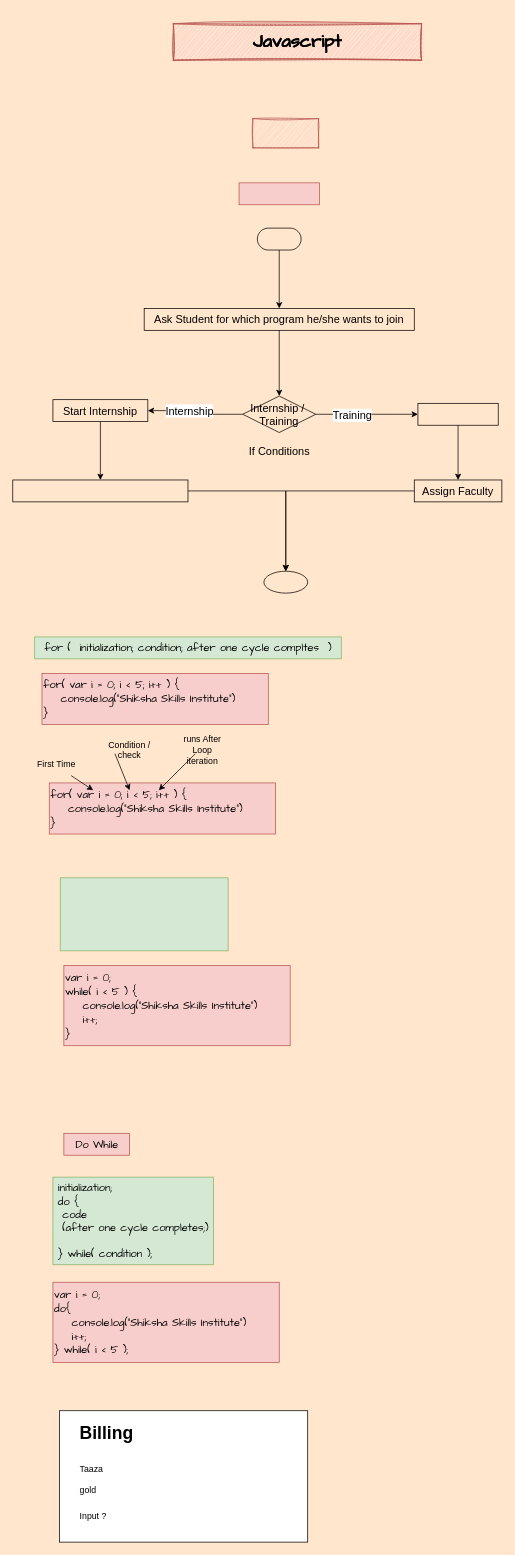
This 515x1555 diagram has some shape labels left out. The shapes that lost their labels are listed below. From the top down, each one's centre as x and y in pixels, then its label:
At point 285,133: "Loops".
At point 278,193: "if statement".
At point 279,238: "Start".
At point 457,414: "Start Training".
At point 100,490: "Assign Tasks / Learning Material".
At point 285,581: "END".
At point 143,914: "initialization; while( condition ) { ( after one cycle completes;) }".
